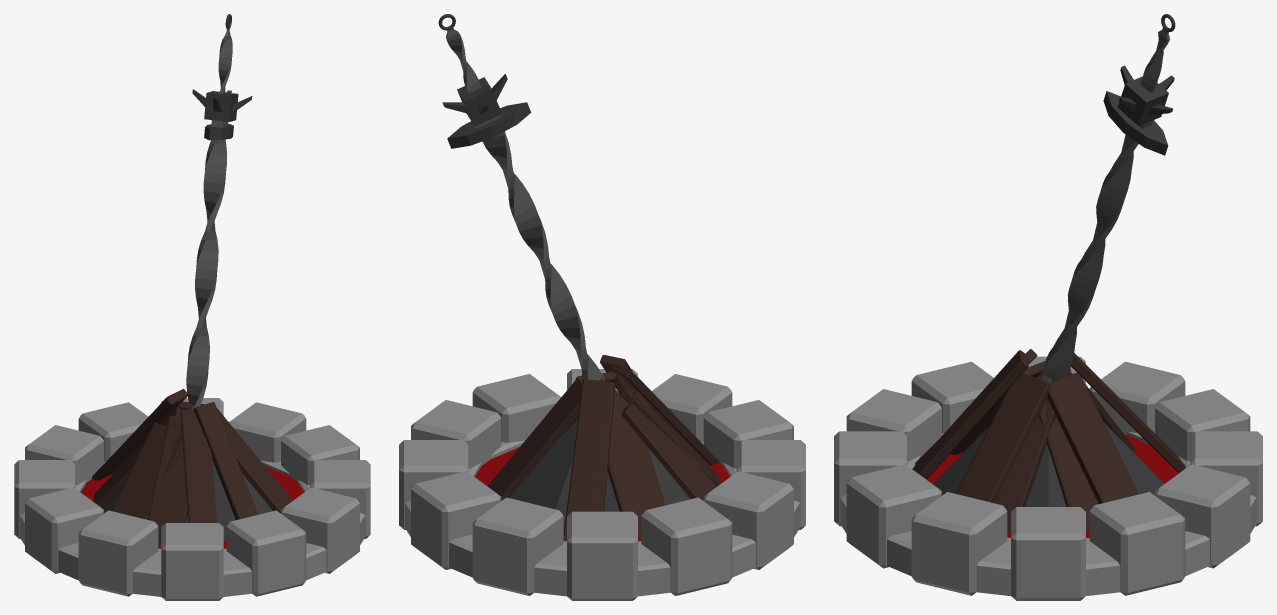
The model's file is checkpoint.fbx.
3 renders of one model, left to right at view 1: azimuth 30°, elevation 25°; view 2: azimuth 150°, elevation 25°; view 3: azimuth 270°, elevation 25°, orthographic. The views are drawn at different scales.
Visible parts, largest first — view 1: CheckPoint; view 2: CheckPoint; view 3: CheckPoint.
Part boxes in pixels (bbox=[...]): CheckPoint: bbox=[14, 14, 370, 600]; CheckPoint: bbox=[399, 14, 805, 600]; CheckPoint: bbox=[834, 14, 1262, 600].
Size of the model in its own units: 2410 by 3402 by 2410.
